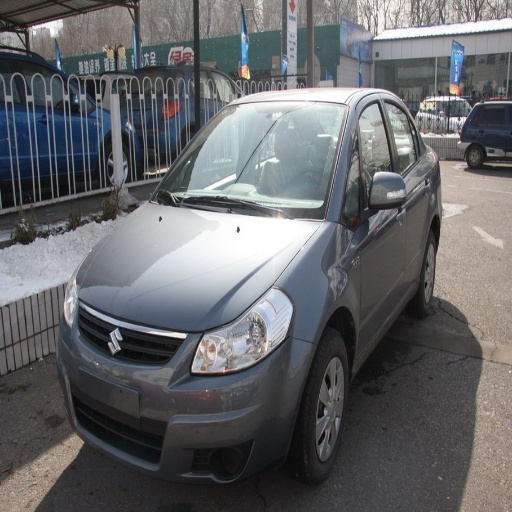front_bumper: (59, 304, 314, 481)
front_glass: (130, 106, 346, 219)
front_left_door: (343, 94, 405, 341)
